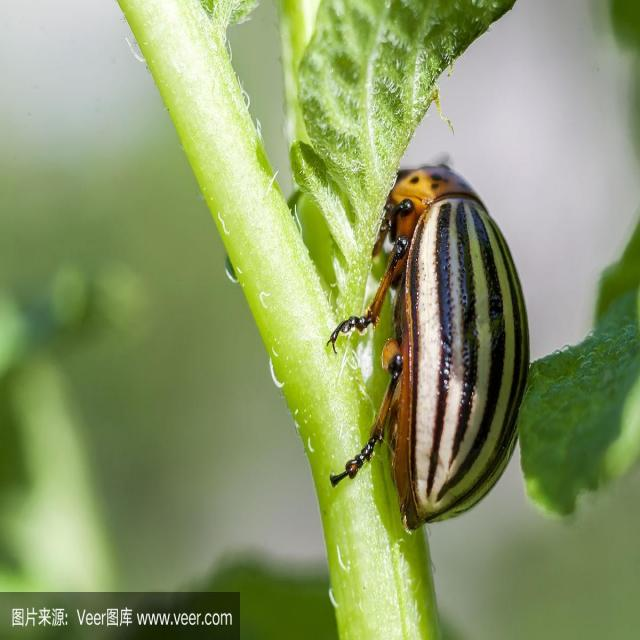ShuCaiHuaBanChong-Grown-: (366, 144, 556, 530)
